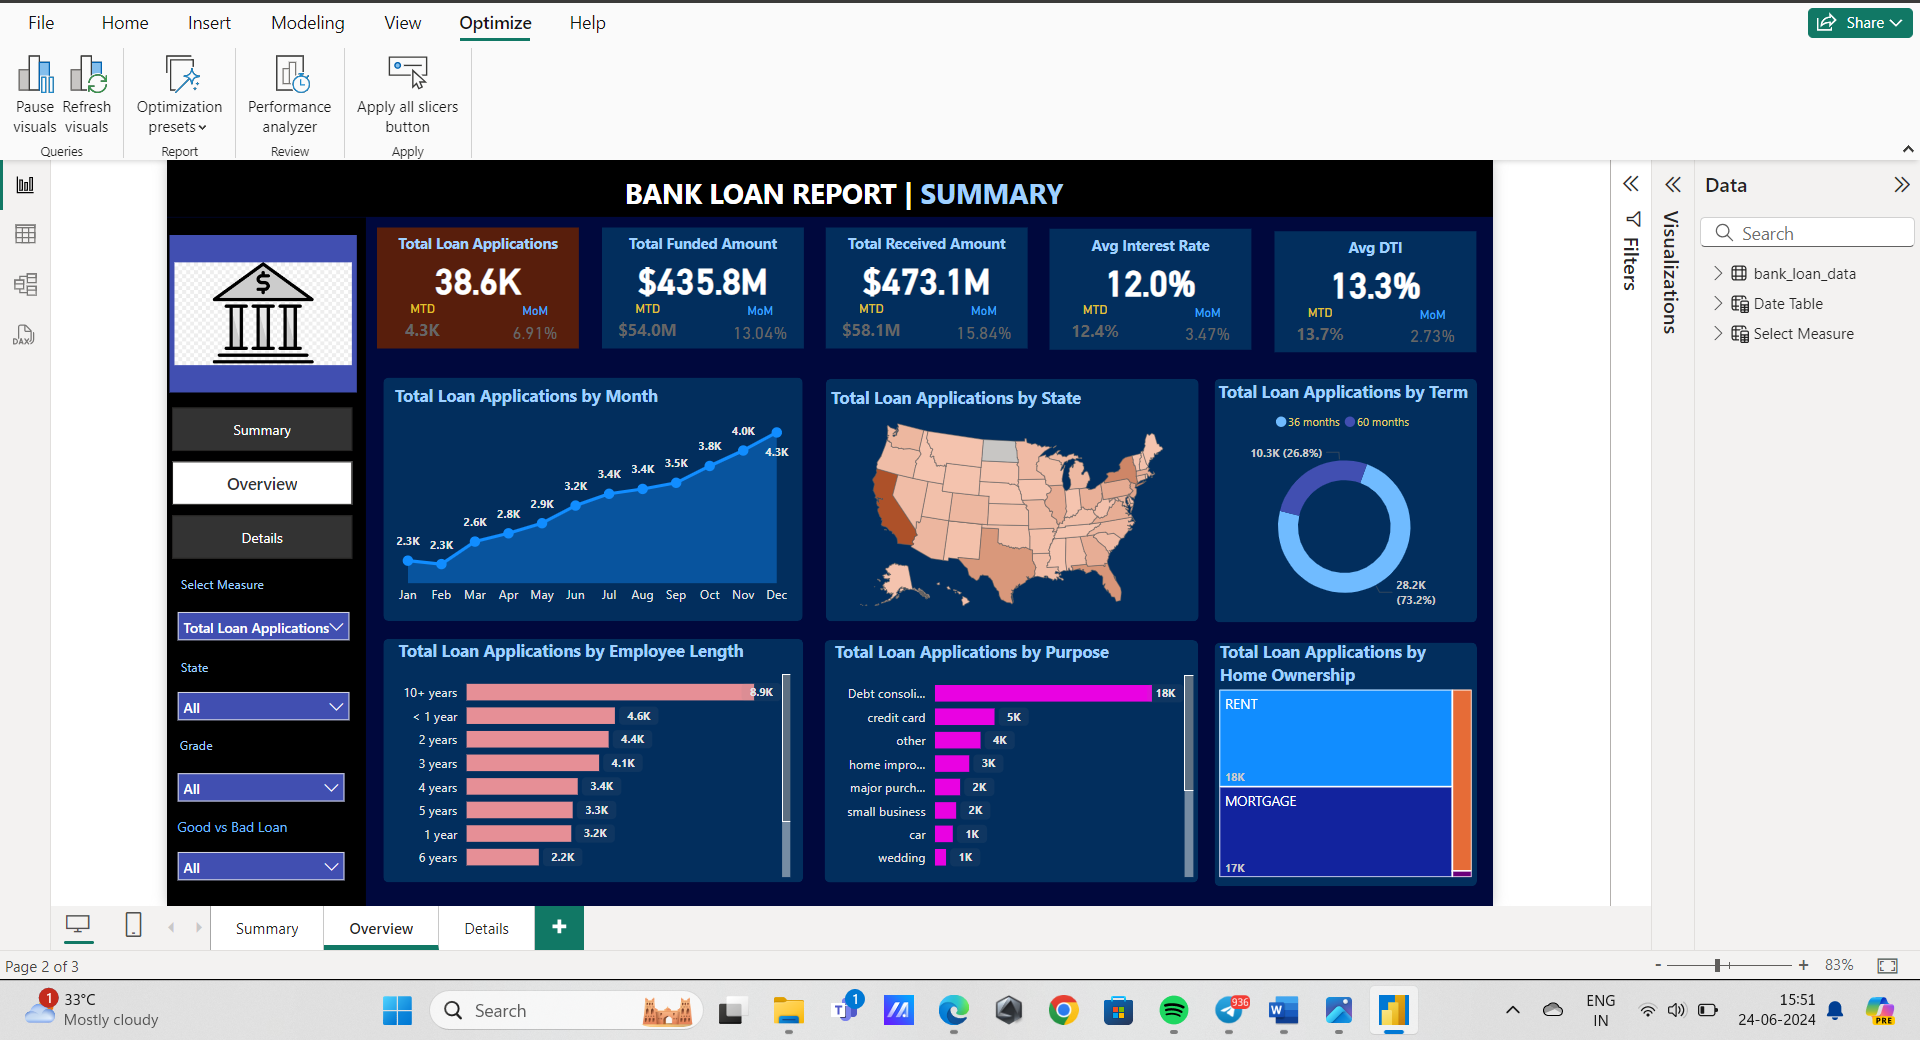

The dashboard page shown, as its layout file describes it:
{"tool":"powerbi","page":{"name":"Overview","canvas":[1280,720],"ordinal":1},"visuals":[{"type":"shape","box":[202.8,64.6,194.8,116.9],"z":0,"group":"g1"},{"type":"shape","box":[635.7,64.6,194.8,116.9],"z":0,"group":"g3"},{"type":"shape","box":[419.3,65.5,194.8,116.9],"z":0,"group":"g2"},{"type":"shape","box":[852.2,66.8,194.8,116.9],"z":0,"group":"g4"},{"type":"shape","box":[1068.6,68.6,194.8,116.9],"z":0,"group":"g5"},{"type":"shape","box":[208.6,210.4,405,235],"z":0},{"type":"shape","box":[0.3,0,1279.7,54.9],"z":1000},{"type":"card","fields":{"Values":["bank_loan_data.Total Loan Applications"]},"box":[202.8,85,194.8,59.3],"z":1000,"group":"g1"},{"type":"card","fields":{"Values":["bank_loan_data.Total Amount Received"]},"box":[635.7,85,194.8,59.3],"z":1000,"group":"g3"},{"type":"card","fields":{"Values":["bank_loan_data.Total Funded Amount"]},"box":[419.3,85.9,194.8,59.3],"z":1000,"group":"g2"},{"type":"card","fields":{"Values":["bank_loan_data.Avg Interest Rate"]},"box":[852.2,87.2,194.8,59.3],"z":1000,"group":"g4"},{"type":"card","fields":{"Values":["bank_loan_data.Avg DTI"]},"box":[1068.6,89,194.8,59.3],"z":1000,"group":"g5"},{"type":"shape","box":[0,54.9,192.1,665.2],"z":2000},{"type":"textbox","box":[202.8,65.5,194.8,38.1],"z":2000,"group":"g1"},{"type":"textbox","box":[635.7,65.5,194.8,38.1],"z":2000,"group":"g3"},{"type":"textbox","box":[419.3,66.4,194.8,38.1],"z":2000,"group":"g2"},{"type":"textbox","box":[852.2,67.7,194.8,38.1],"z":2000,"group":"g4"},{"type":"textbox","box":[1068.6,69.5,194.8,38.1],"z":2000,"group":"g5"},{"type":"textbox","box":[436.6,8,448.1,46.9],"z":3000},{"type":"card","title":"MTD","fields":{"Values":["bank_loan_data.MTD Loan Application"]},"box":[202.8,135.4,87.7,46.1],"z":3000,"group":"g1"},{"type":"card","title":"MTD","fields":{"Values":["bank_loan_data.MTD Total Amount Received"]},"box":[635.7,135.4,87.7,46.1],"z":3000,"group":"g3"},{"type":"card","title":"MTD","fields":{"Values":["bank_loan_data.MTD Funded Amount"]},"box":[419.3,136.3,87.7,46.1],"z":3000,"group":"g2"},{"type":"card","title":"MTD","fields":{"Values":["bank_loan_data.MTD Avg INT Rate"]},"box":[852.2,137.6,87.7,46.1],"z":3000,"group":"g4"},{"type":"card","title":"MTD","fields":{"Values":["bank_loan_data.MTD Avg DTI"]},"box":[1068.6,139.4,87.7,46.1],"z":3000,"group":"g5"},{"type":"group","id":"g1","title":"Group 1","box":[202.8,64.6,194.8,116.9],"z":4000},{"type":"card","title":"MoM","fields":{"Values":["bank_loan_data.MoM Loan Applications"]},"box":[314.4,138.1,83.2,43.4],"z":4000,"group":"g1"},{"type":"card","title":"MoM","fields":{"Values":["bank_loan_data.MoM Total Received Amount"]},"box":[747.3,138.1,83.2,43.4],"z":4000,"group":"g3"},{"type":"card","title":"MoM","fields":{"Values":["bank_loan_data.MoM Total Funded Amount"]},"box":[530.9,139,83.2,43.4],"z":4000,"group":"g2"},{"type":"card","title":"MoM","fields":{"Values":["bank_loan_data.MoM Avg Int Rate"]},"box":[963.8,140.3,83.2,43.4],"z":4000,"group":"g4"},{"type":"card","title":"MoM","fields":{"Values":["bank_loan_data.MoM Avg DTI"]},"box":[1180.2,142.1,83.2,43.4],"z":4000,"group":"g5"},{"type":"group","id":"g2","title":"Group 2","box":[419.3,65.5,194.8,116.9],"z":5000},{"type":"group","id":"g3","title":"Group 2","box":[635.7,64.6,194.8,116.9],"z":6000},{"type":"group","id":"g4","title":"Group 2","box":[852.2,66.8,194.9,116.2],"z":7000},{"type":"group","id":"g5","title":"Group 2","box":[1068.6,68.6,194.9,116.2],"z":8000},{"type":"shape","box":[635.8,211,360,234.1],"z":9000},{"type":"slicer","fields":{"Values":["bank_loan_data.address_state"]},"box":[0,503.1,185.8,44.6],"z":10000},{"type":"textbox","box":[8.4,475.3,54.3,27.7],"z":11000},{"type":"slicer","fields":{"Values":["bank_loan_data.grade"]},"box":[0,581.5,181,44.6],"z":12000},{"type":"textbox","box":[7.2,550.1,54.3,33.8],"z":13000},{"type":"textbox","box":[4.8,629.8,158,27.7],"z":14000},{"type":"slicer","fields":{"Values":["bank_loan_data.purpose"]},"box":[0,657.6,181.2,49.4],"z":15000},{"type":"areaChart","fields":{"Y":["bank_loan_data.Total Loan Applications"],"Category":["Date Table.Month"]},"box":[214.6,215.5,391.9,221.7],"z":16000},{"type":"slicer","fields":{"Values":["Select Measure.Select Measure"]},"box":[0,425.9,185.8,48.3],"z":17000},{"type":"textbox","box":[8.4,394.5,112.2,31.4],"z":18000},{"type":"shapeMap","fields":{"Value":["bank_loan_data.Total Loan Applications"],"Category":["bank_loan_data.address_state"]},"box":[635.8,218.4,359.5,226.8],"z":19000},{"type":"shape","box":[1011,211.1,253.4,235.3],"z":20000},{"type":"donutChart","fields":{"Y":["bank_loan_data.Total Loan Applications"],"Category":["bank_loan_data.term"]},"box":[1009.8,212.3,253.4,234],"z":21000},{"type":"shape","box":[208.7,462.1,405.4,235.3],"z":22000},{"type":"barChart","fields":{"Y":["bank_loan_data.Total Loan Applications"],"Category":["bank_loan_data.emp_length"]},"box":[218.4,462.1,388.5,235.3],"z":23000},{"type":"shape","box":[634.6,463.3,360.7,234],"z":24000},{"type":"barChart","fields":{"Y":["bank_loan_data.Total Loan Applications"],"Category":["bank_loan_data.purpose"]},"box":[639.4,463.3,355.9,234],"z":25000},{"type":"shape","box":[1011,465.7,253.4,235.3],"z":26000},{"type":"treemap","fields":{"Values":["bank_loan_data.Total Loan Applications"],"Group":["bank_loan_data.home_ownership"]},"box":[1011,463.3,253.4,234],"z":27000},{"type":"pageNavigator","box":[4.8,238.9,174.9,148.4],"z":27001},{"type":"image","box":[2.4,72.4,181,152],"z":27002}]}

Visuals, with their boxes on the page's 1280x720 design canvas (x1, y1, x2, y2). These are canvas units, not pixel positions in the 1920x1040 screenshot, which may show the page scaled, cropped or inside an application window:
shape: locate(203, 65, 398, 182)
shape: locate(636, 65, 830, 182)
shape: locate(419, 66, 614, 182)
shape: locate(852, 67, 1047, 184)
shape: locate(1069, 69, 1263, 186)
shape: locate(209, 210, 614, 445)
shape: locate(0, 0, 1280, 55)
card - bank_loan_data.Total Loan Applications: locate(203, 85, 398, 144)
card - bank_loan_data.Total Amount Received: locate(636, 85, 830, 144)
card - bank_loan_data.Total Funded Amount: locate(419, 86, 614, 145)
card - bank_loan_data.Avg Interest Rate: locate(852, 87, 1047, 146)
card - bank_loan_data.Avg DTI: locate(1069, 89, 1263, 148)
shape: locate(0, 55, 192, 720)
textbox: locate(203, 66, 398, 104)
textbox: locate(636, 66, 830, 104)
textbox: locate(419, 66, 614, 104)
textbox: locate(852, 68, 1047, 106)
textbox: locate(1069, 70, 1263, 108)
textbox: locate(437, 8, 885, 55)
"MTD" card: locate(203, 135, 290, 182)
"MTD" card: locate(636, 135, 723, 182)
"MTD" card: locate(419, 136, 507, 182)
"MTD" card: locate(852, 138, 940, 184)
"MTD" card: locate(1069, 139, 1156, 186)
"Group 1" group: locate(203, 65, 398, 182)
"MoM" card: locate(314, 138, 398, 182)
"MoM" card: locate(747, 138, 830, 182)
"MoM" card: locate(531, 139, 614, 182)
"MoM" card: locate(964, 140, 1047, 184)
"MoM" card: locate(1180, 142, 1263, 186)
"Group 2" group: locate(419, 66, 614, 182)
"Group 2" group: locate(636, 65, 830, 182)
"Group 2" group: locate(852, 67, 1047, 183)
"Group 2" group: locate(1069, 69, 1264, 185)
shape: locate(636, 211, 996, 445)
slicer - bank_loan_data.address_state: locate(0, 503, 186, 548)
textbox: locate(8, 475, 63, 503)
slicer - bank_loan_data.grade: locate(0, 582, 181, 626)
textbox: locate(7, 550, 62, 584)
textbox: locate(5, 630, 163, 658)
slicer - bank_loan_data.purpose: locate(0, 658, 181, 707)
areaChart - bank_loan_data.Total Loan Applications x Date Table.Month: locate(215, 216, 606, 437)
slicer - Select Measure.Select Measure: locate(0, 426, 186, 474)
textbox: locate(8, 394, 121, 426)
shapeMap - bank_loan_data.Total Loan Applications x bank_loan_data.address_state: locate(636, 218, 995, 445)
shape: locate(1011, 211, 1264, 446)
donutChart - bank_loan_data.Total Loan Applications x bank_loan_data.term: locate(1010, 212, 1263, 446)
shape: locate(209, 462, 614, 697)
barChart - bank_loan_data.Total Loan Applications x bank_loan_data.emp_length: locate(218, 462, 607, 697)
shape: locate(635, 463, 995, 697)
barChart - bank_loan_data.Total Loan Applications x bank_loan_data.purpose: locate(639, 463, 995, 697)
shape: locate(1011, 466, 1264, 701)
treemap - bank_loan_data.Total Loan Applications x bank_loan_data.home_ownership: locate(1011, 463, 1264, 697)
pageNavigator: locate(5, 239, 180, 387)
image: locate(2, 72, 183, 224)
